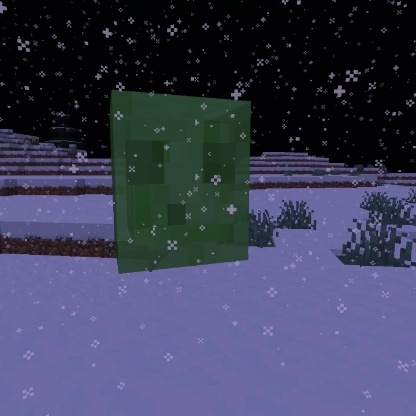slime: (106, 86, 255, 277)
